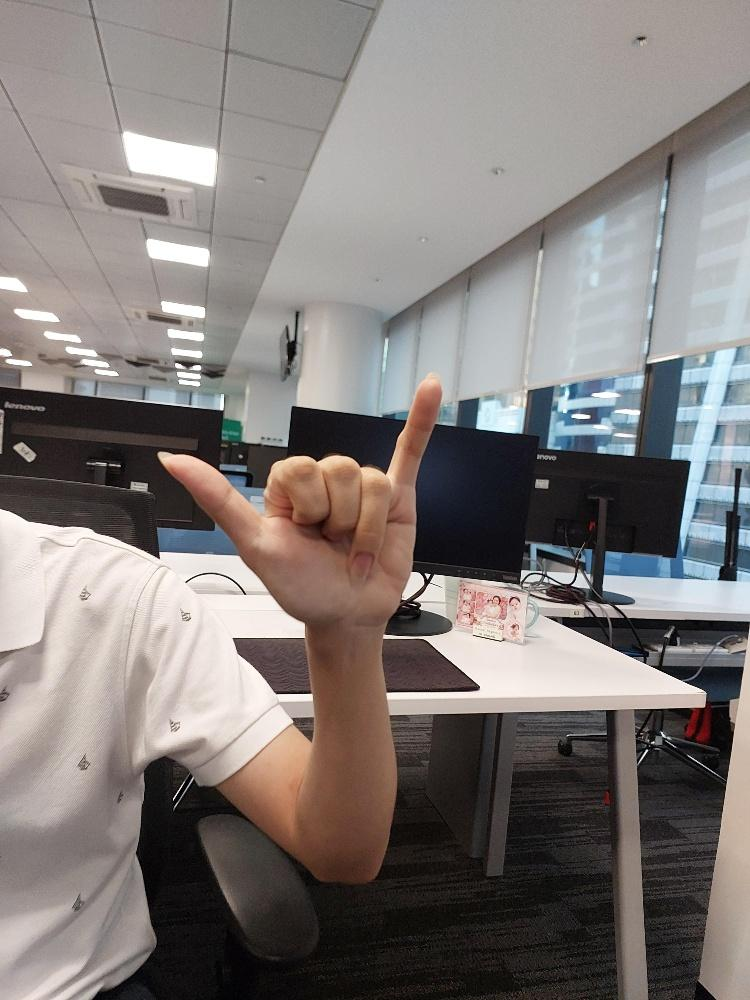y: (159, 371, 446, 626)
